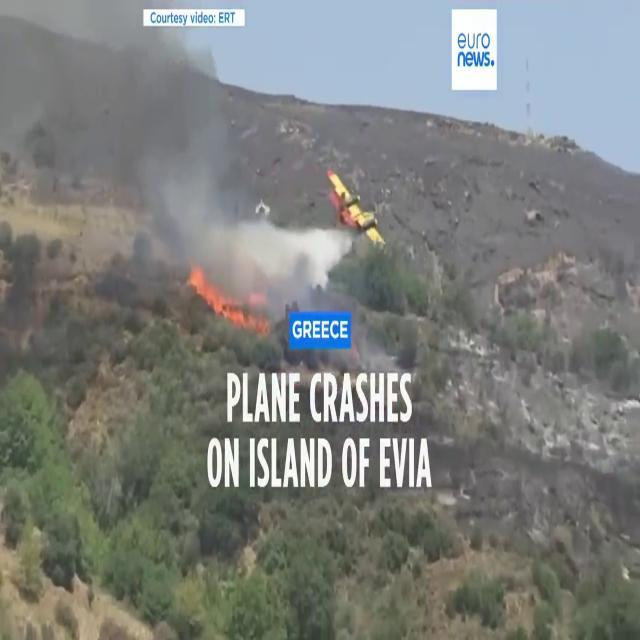Fire: (184, 260, 232, 324)
Smoke: (0, 3, 247, 310)
